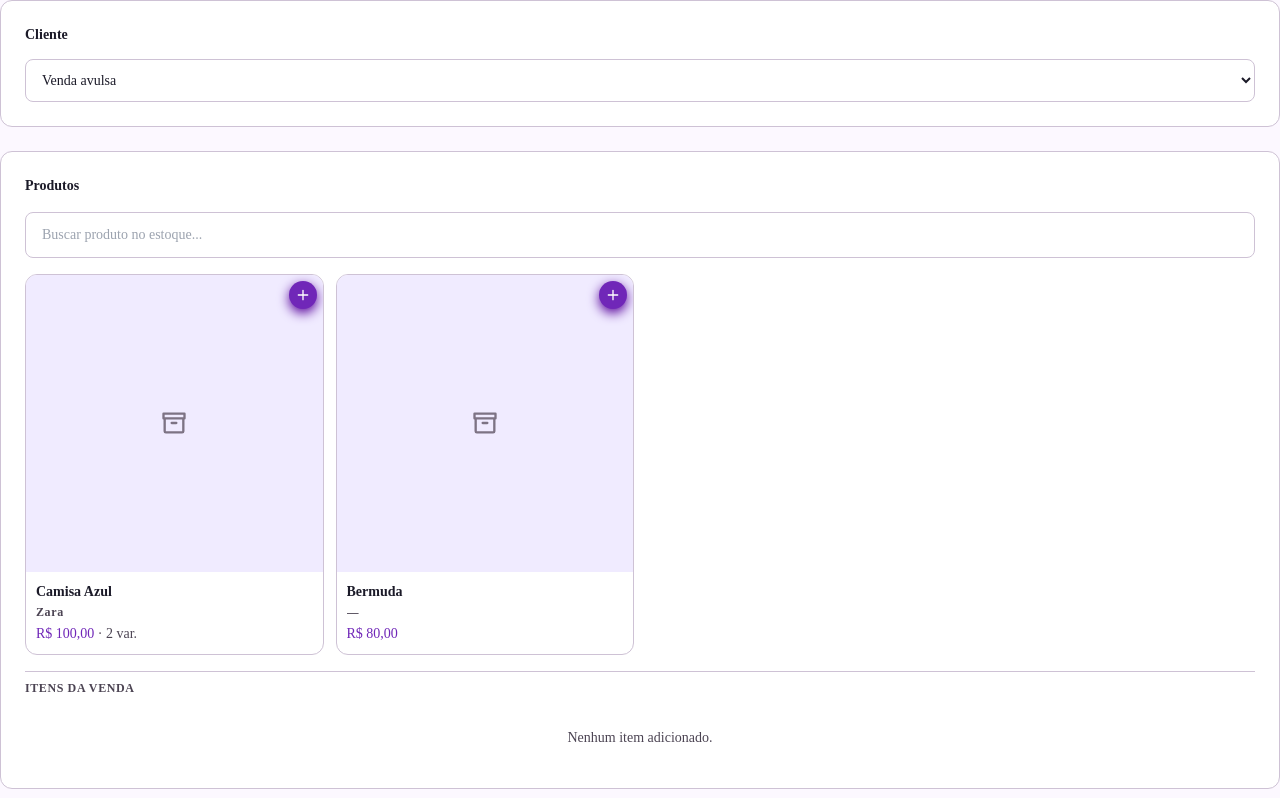
Test: NewSaleForm › adds via the text search dropdown and clamps quantity to stock
In the field with placeholder "Buscar produto no estoque...": (640,235) [25,212,1255,258], type "Camisa Azul · M"
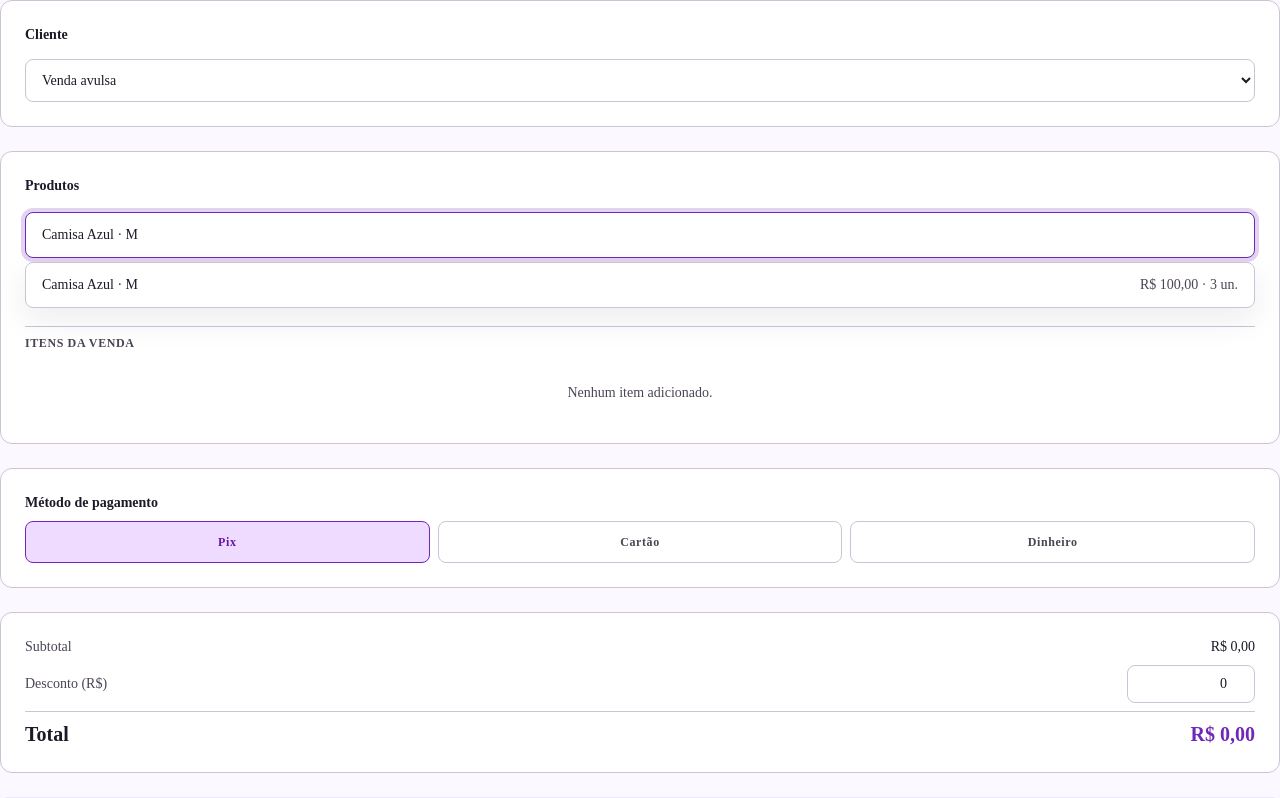
Click the button "Camisa Azul · M R$ 100,00 · 3 un.": (90,284) [26,263,1254,307]
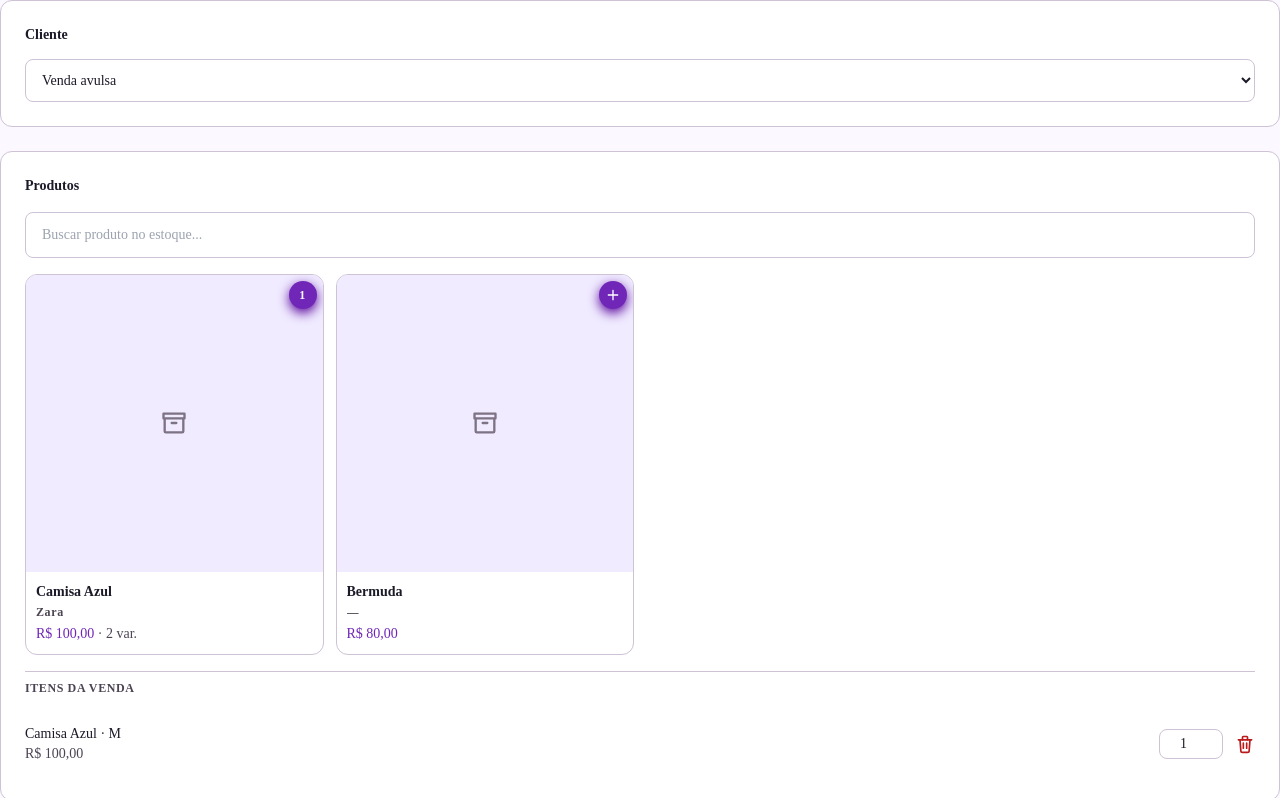
Replace the text in the number field with "99": (1191,744) [1159,728,1223,758]
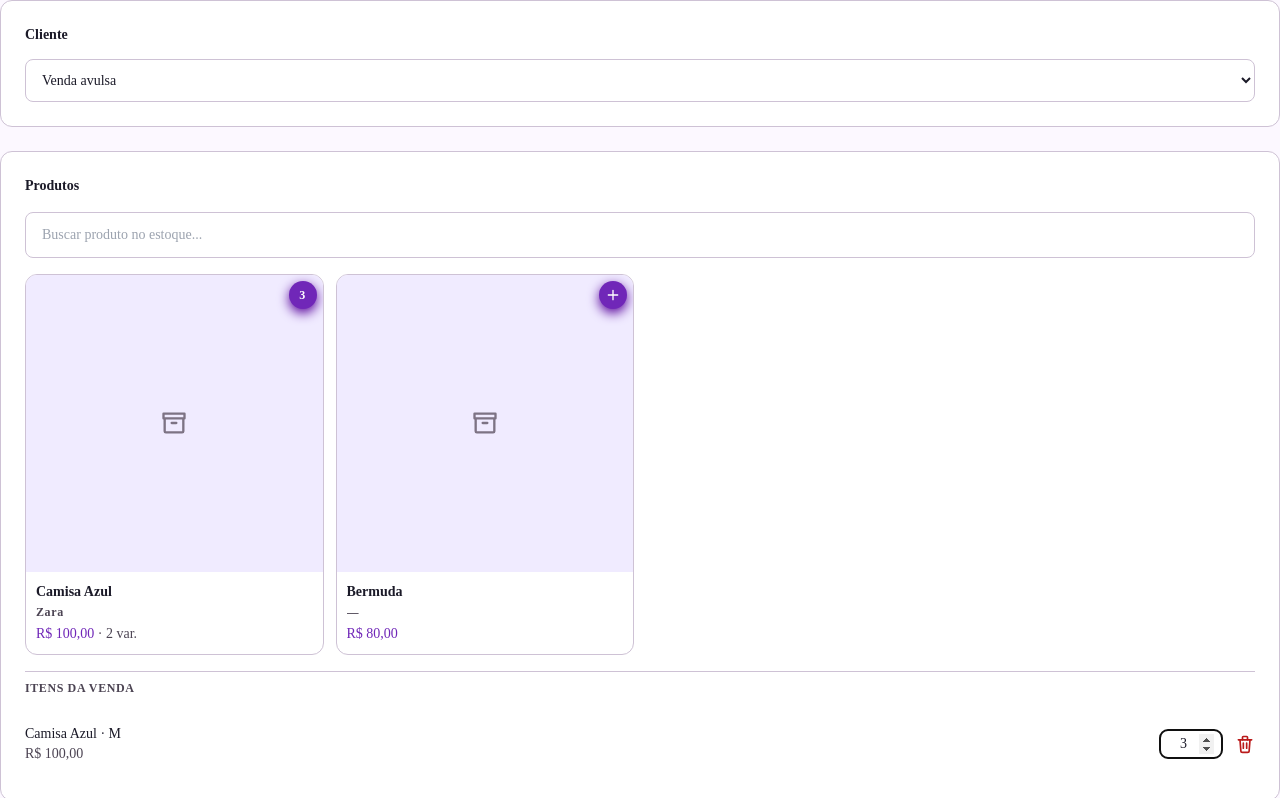
Expected: the number field holds "3", [1159,728,1223,758]
